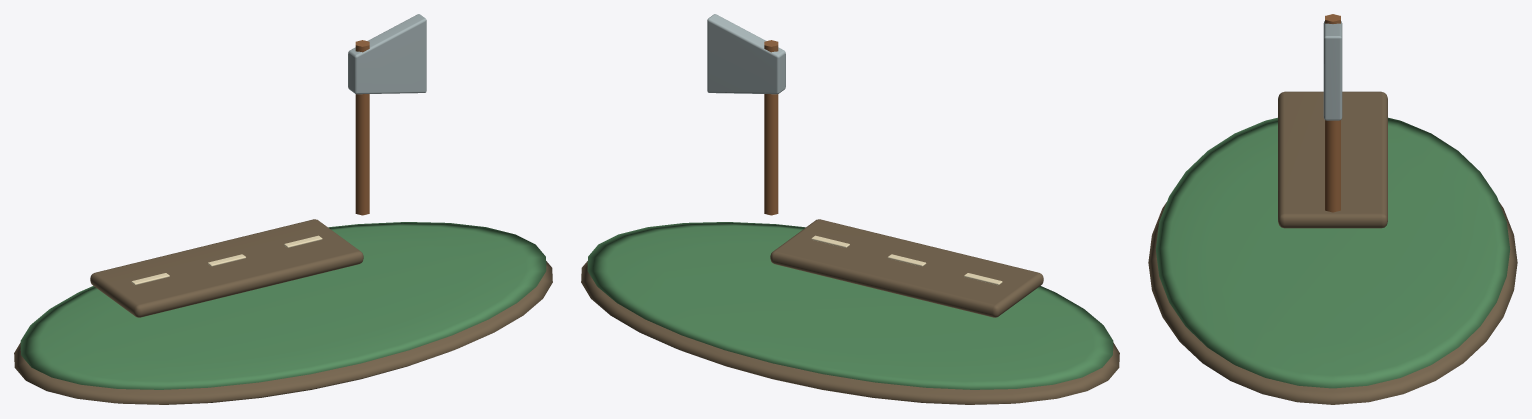
The model's file is near-axe.glb.
3 views of the same model, side by side, from view 1: azimuth 30°, elevation 25°; view 2: azimuth 150°, elevation 25°; view 3: azimuth 270°, elevation 25° (orthographic). The views are drawn at different scales.
Visible parts, largest first — view 1: near-axe_surface_01, near-axe_surface_00, near-axe_surface_04, near-axe_surface_03, near-axe_surface_02; view 2: near-axe_surface_01, near-axe_surface_00, near-axe_surface_04, near-axe_surface_03, near-axe_surface_02; view 3: near-axe_surface_01, near-axe_surface_00, near-axe_surface_04, near-axe_surface_03.
Boxes of the visible parts, x1,y1,x2,y2 form: near-axe_surface_01: (20,222,546,389); near-axe_surface_00: (14,219,552,404); near-axe_surface_04: (348,14,426,94); near-axe_surface_03: (355,40,369,215); near-axe_surface_02: (131,235,322,285); near-axe_surface_01: (587,222,1113,389); near-axe_surface_00: (581,219,1119,404); near-axe_surface_04: (707,14,785,94); near-axe_surface_03: (764,40,778,215); near-axe_surface_02: (811,235,1002,285); near-axe_surface_01: (1155,117,1510,388); near-axe_surface_00: (1148,91,1517,404); near-axe_surface_04: (1323,21,1342,120); near-axe_surface_03: (1325,14,1340,212).
Size of the model in its own units: 4.56 by 2.39 by 2.5.
